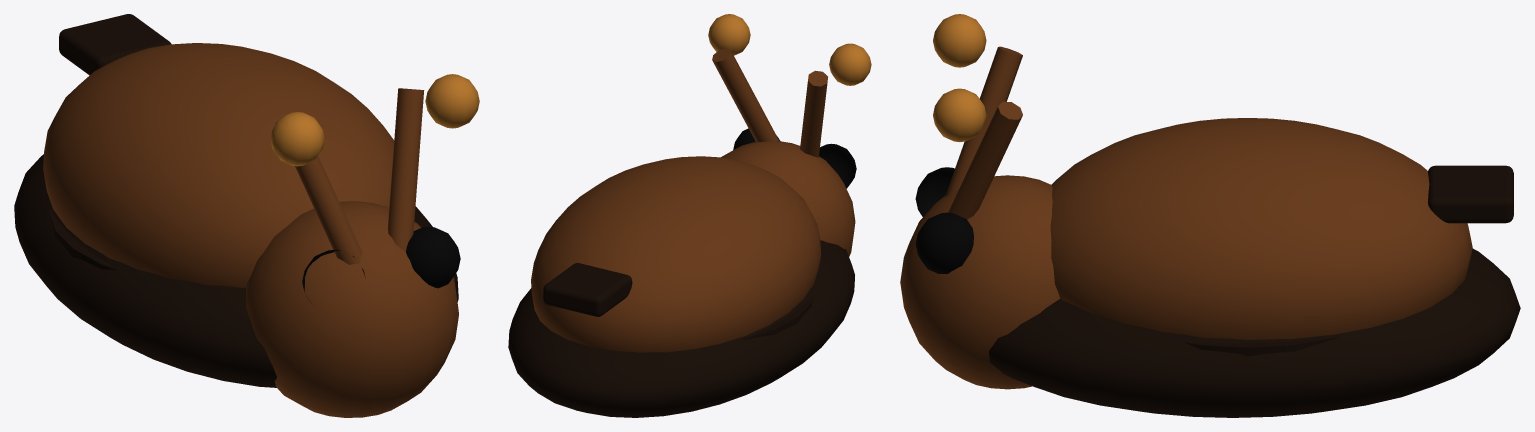
Rendered from bloque.obj.
The picture shows the model from 3 angles, left to right: view 1: azimuth 30°, elevation 25°; view 2: azimuth 150°, elevation 25°; view 3: azimuth 270°, elevation 25°; orthographic projection. The views are drawn at different scales.
Bounding box in the file's own units: 0.448 × 0.4234 × 0.7246.
